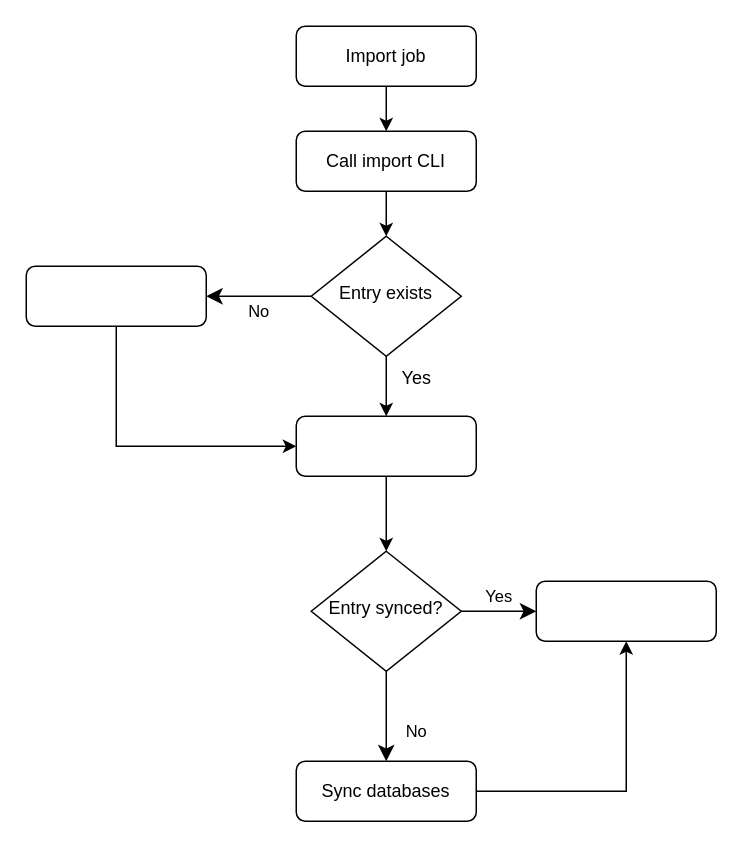
The diagram is 743 pixels wide and 848 high, and some of its shapes have lost their labels. The centre of each missing label's shape, as x and y in pixels:
"Call Sync Daemon" goes at point (385, 445).
"Crawler import job" goes at point (115, 295).
"Update Graph" goes at point (625, 610).
